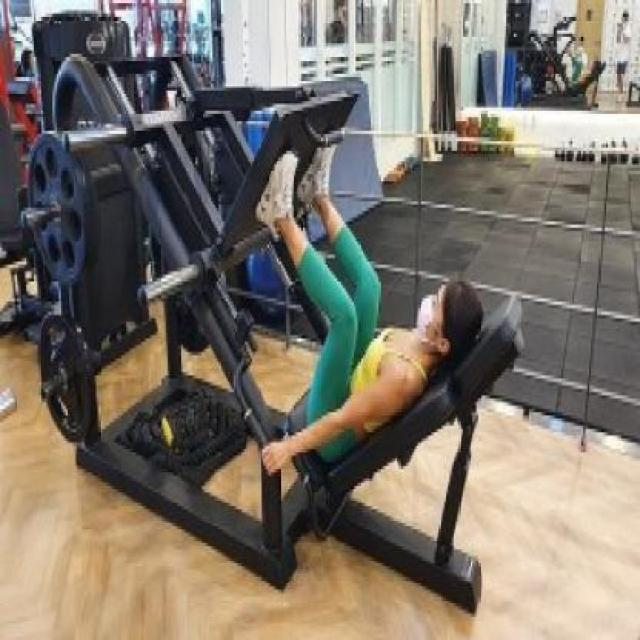leg press: (17, 20, 540, 623)
